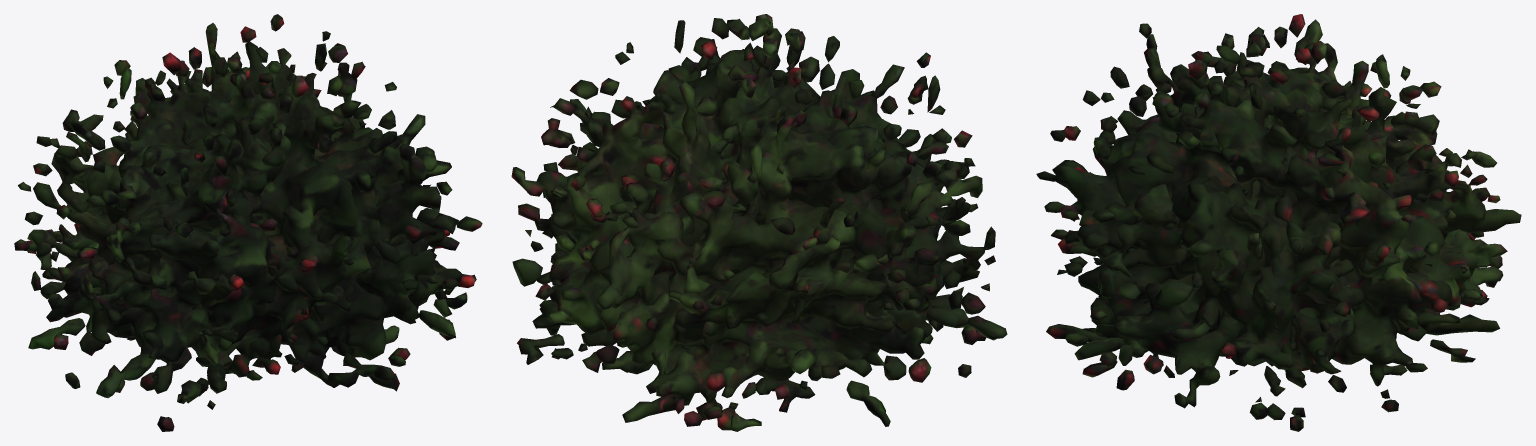
File: AI_BerryShrub.fbx
3 renders of one model, left to right at view 1: azimuth 30°, elevation 25°; view 2: azimuth 150°, elevation 25°; view 3: azimuth 270°, elevation 25°, orthographic. The views are drawn at different scales.
Parts seen in each view (by area): view 1: Mesh1.0; view 2: Mesh1.0; view 3: Mesh1.0.
Boxes of the visible parts, x1,y1,x2,y2 form: Mesh1.0: (14, 14, 482, 431); Mesh1.0: (511, 14, 1007, 431); Mesh1.0: (1036, 14, 1521, 431).
Bounding box in the file's own units: 186 × 136 × 192.
1 material, 1 textured.
